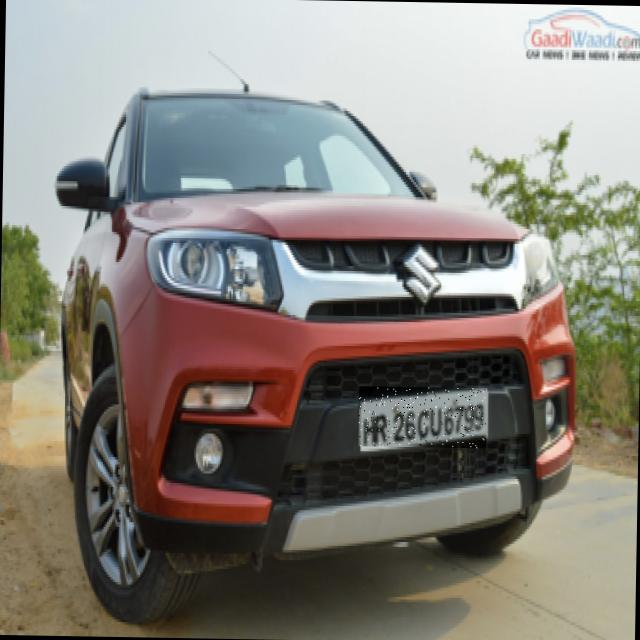Plate: (359, 387, 488, 449)
